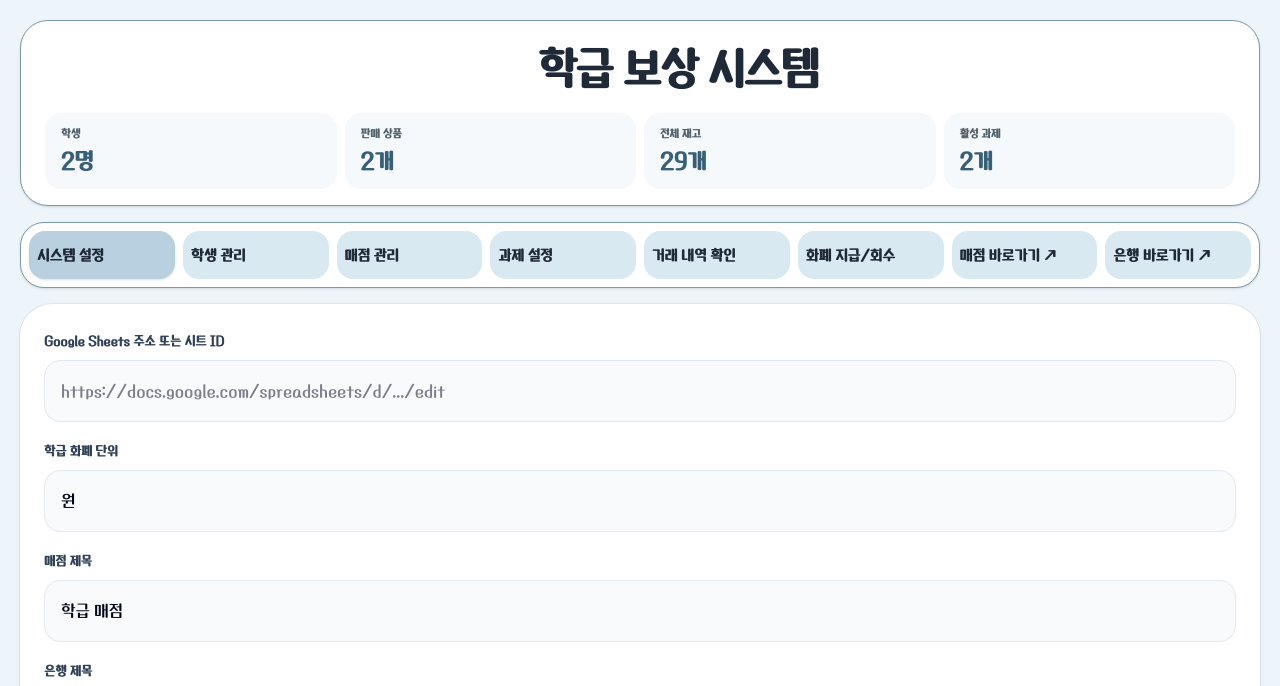
Test: AdminManagePage › opens promotions only from the store subtab and does not fetch them eagerly
This screenshot has width=1280, height=686.
Expected: the heading "학급 보상 시스템" is shown, [538,45,818,93]
Expected: the tab "행사 관리" is not shown
Click the tab "매점 관리" at [409, 255], box [336,231,482,279]
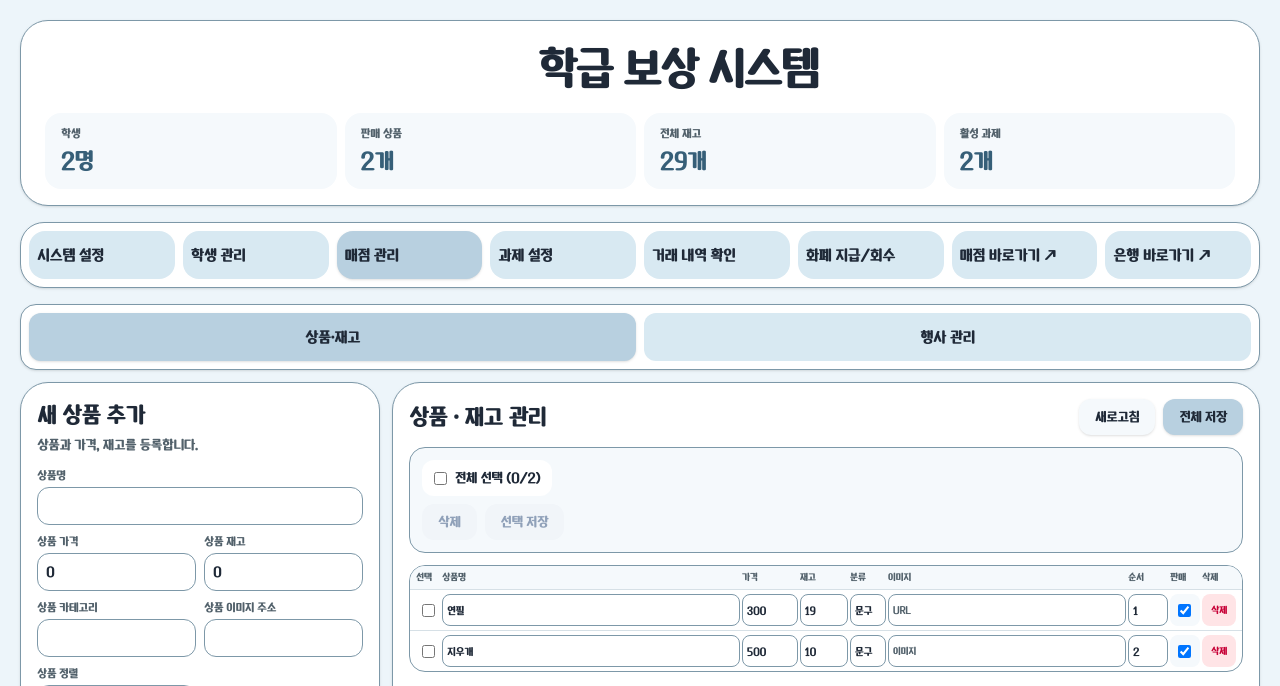
Expected: the tabs read "상품·재고", "행사 관리", in this order
Expected: the heading "새 상품 추가" is shown, [37,399,145,431]
Click the tab "행사 관리" at [948, 337], box [644,313,1251,361]
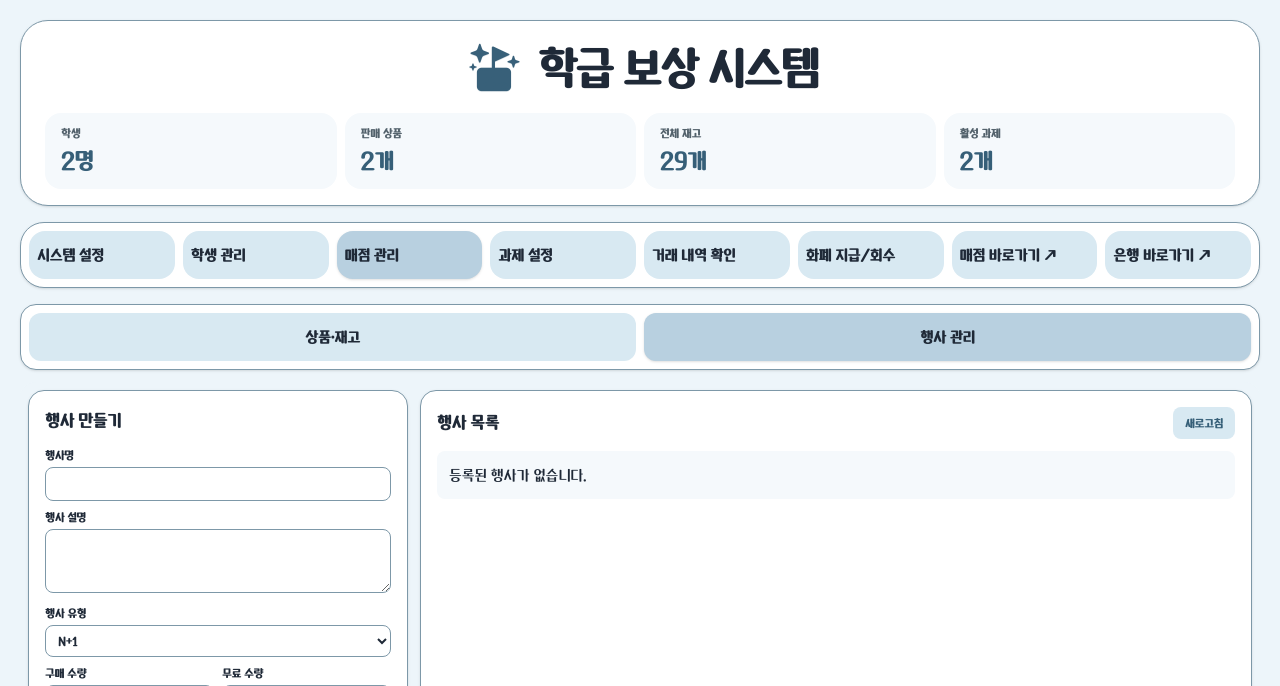
Expected: the heading "행사 만들기" is shown, [45,412,121,430]
Expected: the text "등록된 행사가 없습니다." is shown, [437,451,1235,499]
